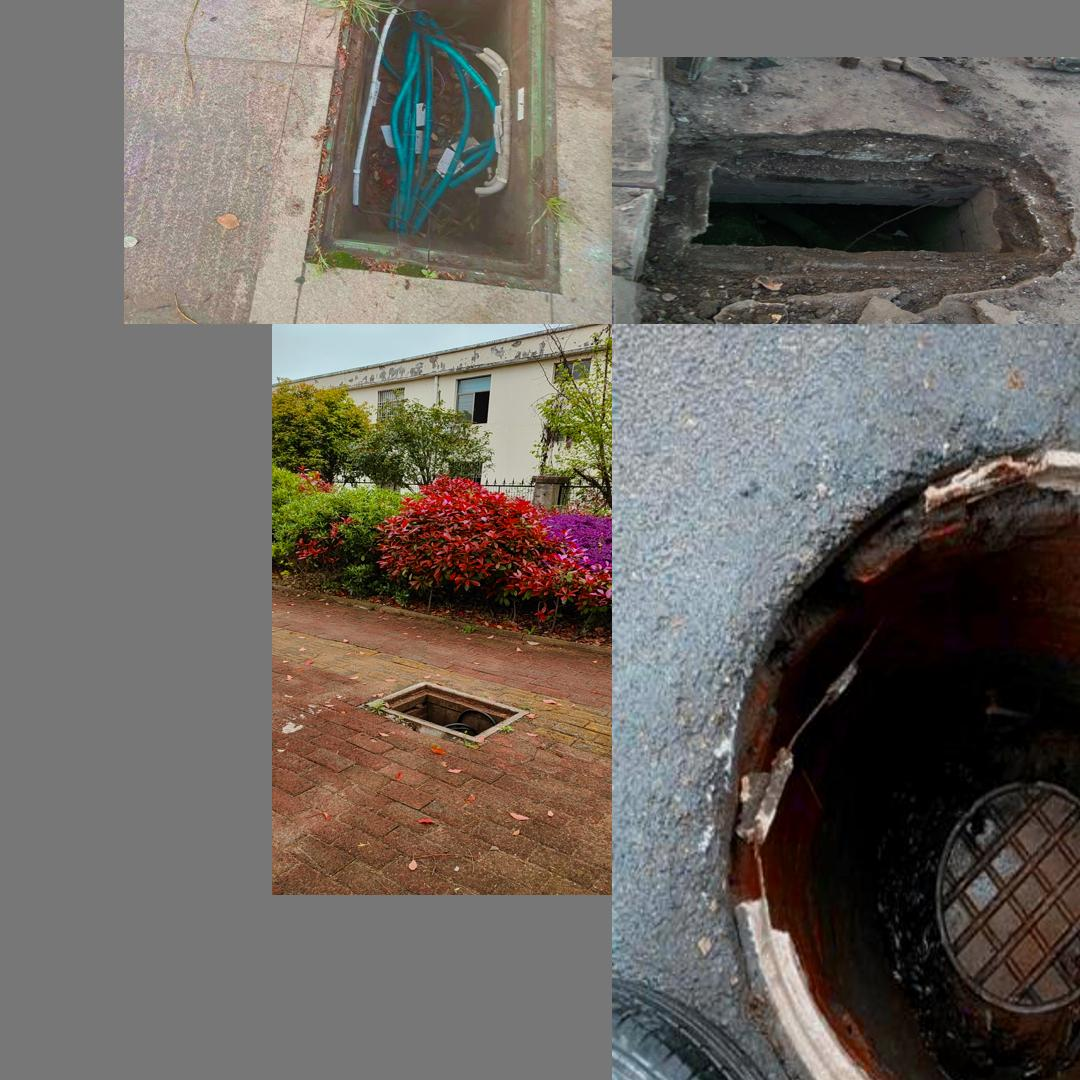lose: (708, 451, 1080, 1080), (311, 0, 563, 275), (686, 164, 1011, 254), (360, 670, 541, 747)
